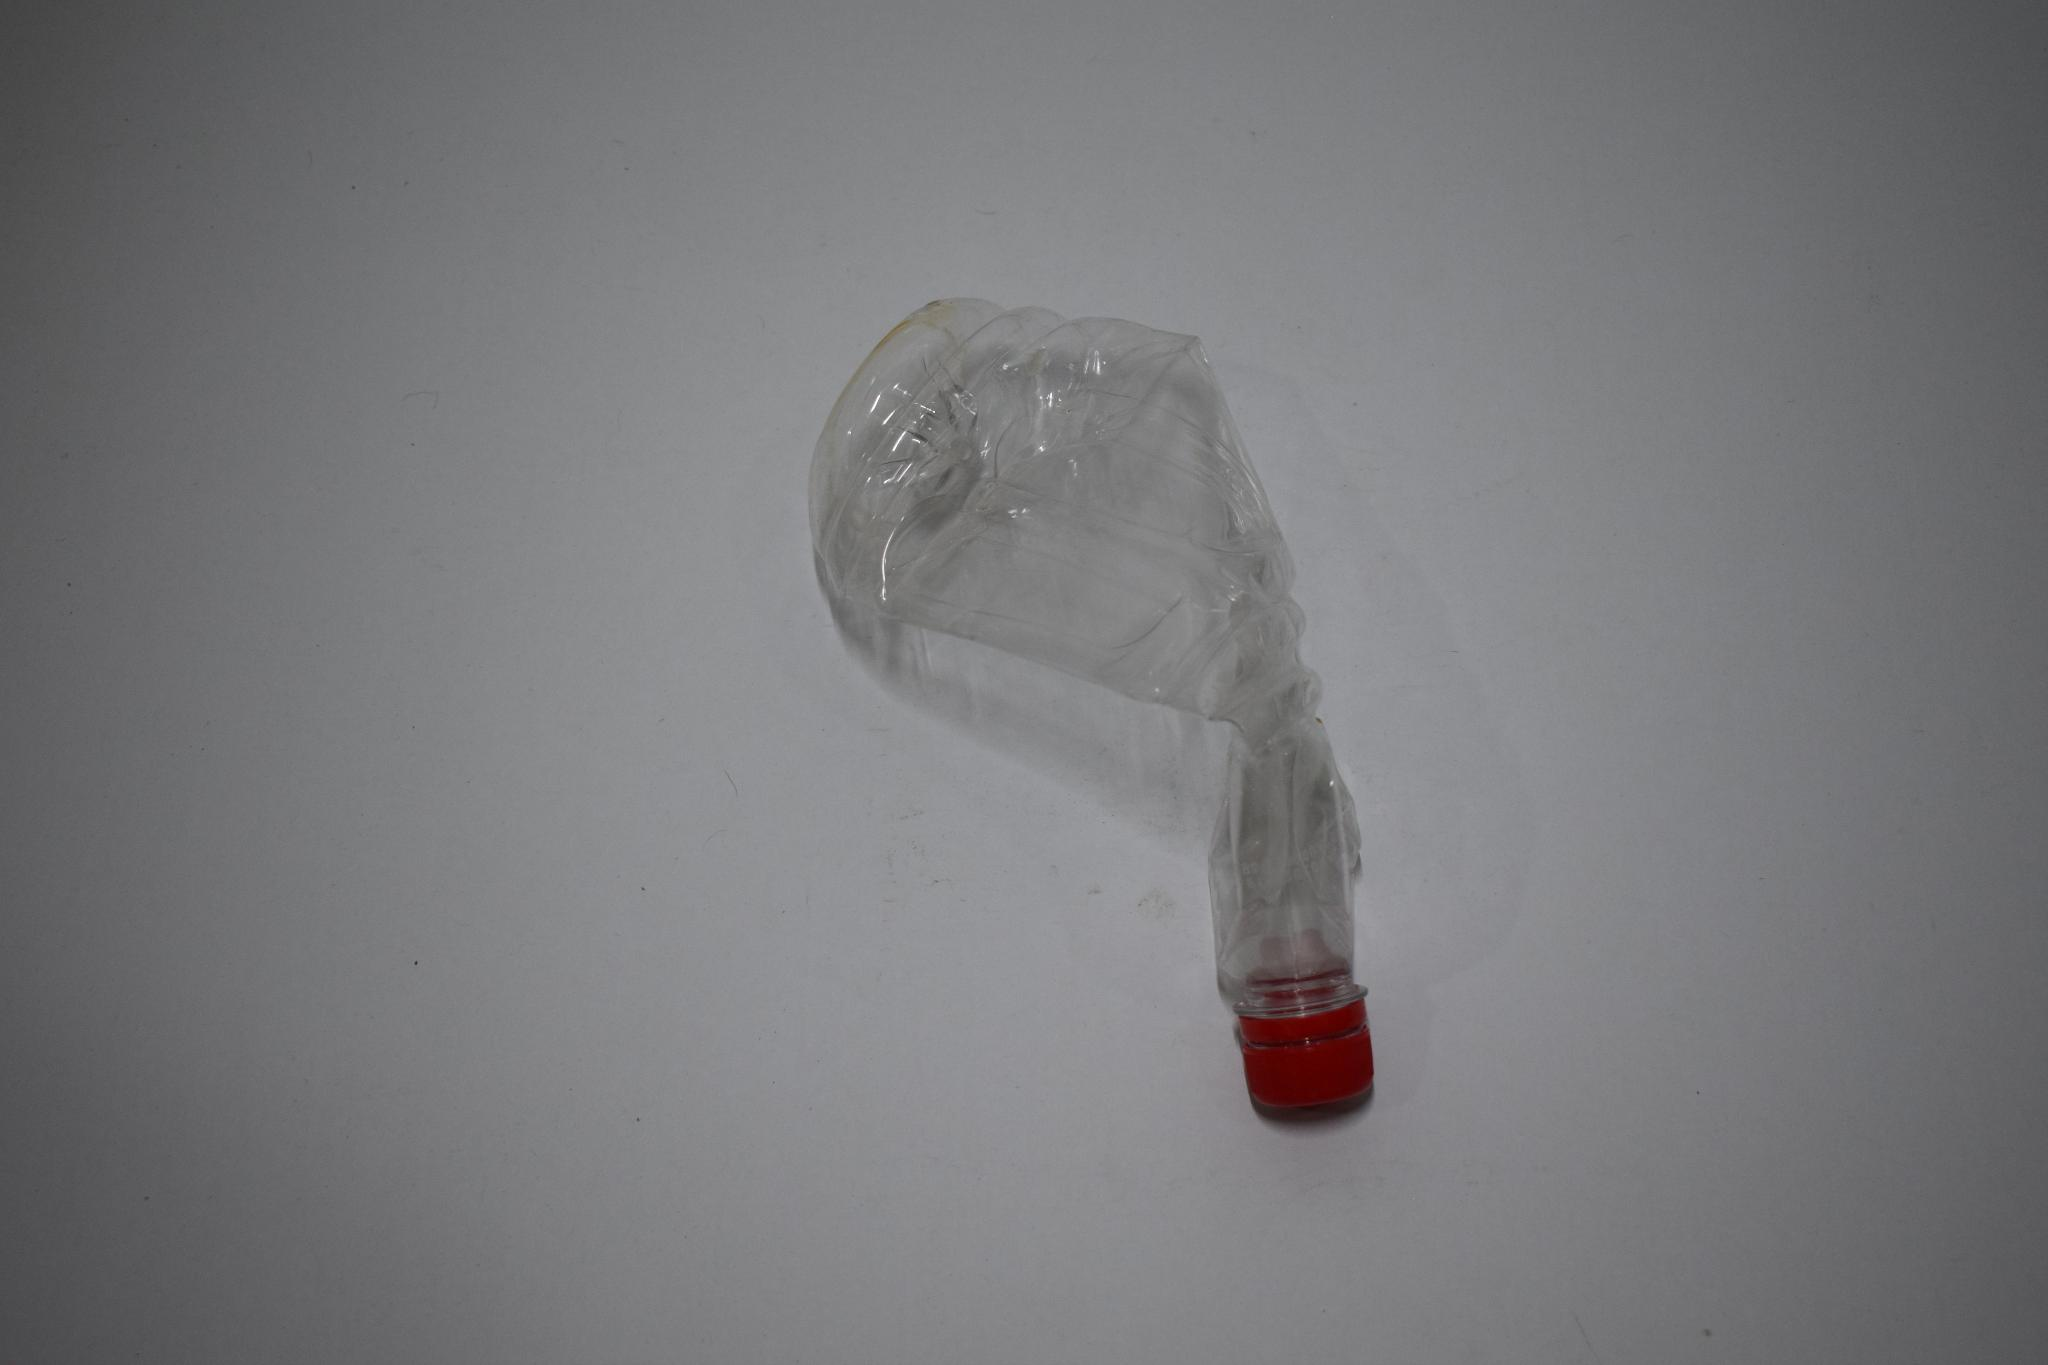bottle: (812, 282, 1428, 1164)
